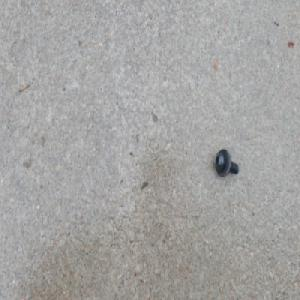BoltWasher: (214, 146, 239, 177)
